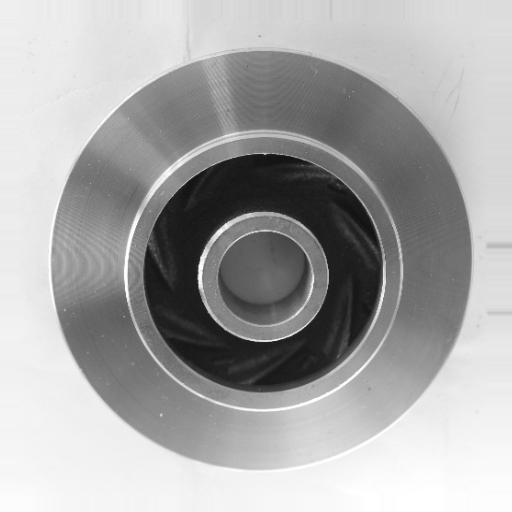polished_casting: (50, 49, 473, 473)
